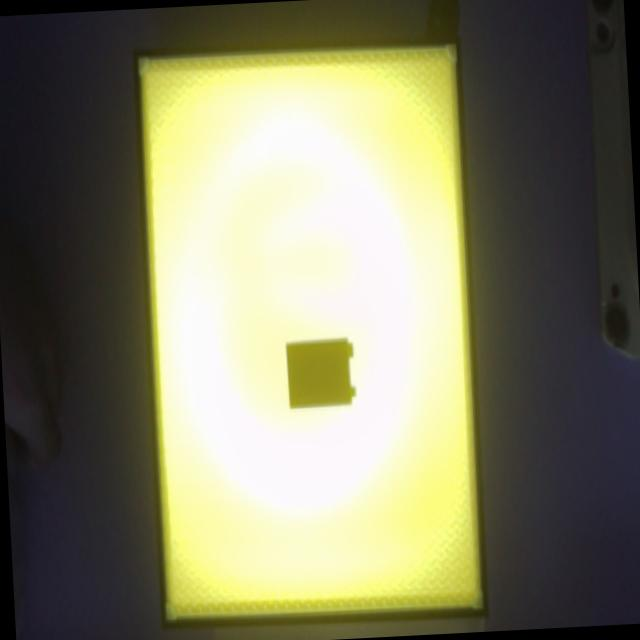bateria: (286, 339, 356, 406)
mesa: (133, 34, 488, 628)
